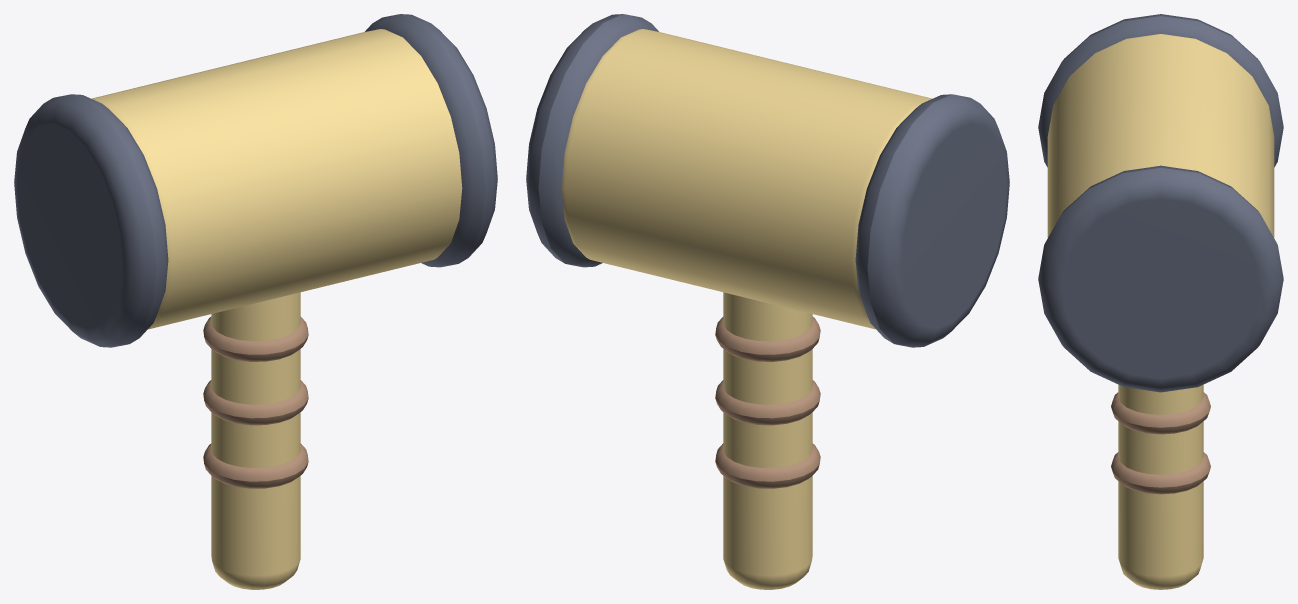
Rendered from GoldenGavel.fbx.
3 views of the same model, side by side, from view 1: azimuth 30°, elevation 25°; view 2: azimuth 150°, elevation 25°; view 3: azimuth 270°, elevation 25° (orthographic). The views are drawn at different scales.
Parts seen in each view (by area): view 1: Ceremonial head, Velvet black band, Ceremonial handle, Velvet black band.001, Grip ring.001, Grip ring, Grip ring.002; view 2: Ceremonial head, Velvet black band, Ceremonial handle, Velvet black band.001, Grip ring.001, Grip ring, Grip ring.002; view 3: Velvet black band.001, Ceremonial head, Ceremonial handle, Velvet black band, Grip ring, Grip ring.001.
Part boxes in pixels (x1=…): Ceremonial head: x1=92, y1=29, x2=462, y2=329; Velvet black band: x1=14, y1=94, x2=168, y2=347; Ceremonial handle: x1=211, y1=292, x2=300, y2=589; Velvet black band.001: x1=365, y1=14, x2=497, y2=267; Grip ring.001: x1=203, y1=380, x2=308, y2=425; Grip ring: x1=203, y1=443, x2=308, y2=488; Grip ring.002: x1=203, y1=317, x2=308, y2=361; Ceremonial head: x1=561, y1=29, x2=931, y2=329; Velvet black band: x1=855, y1=94, x2=1009, y2=347; Ceremonial handle: x1=723, y1=292, x2=812, y2=589; Velvet black band.001: x1=526, y1=14, x2=658, y2=267; Grip ring.001: x1=715, y1=380, x2=820, y2=425; Grip ring: x1=715, y1=443, x2=820, y2=488; Grip ring.002: x1=715, y1=317, x2=820, y2=361; Velvet black band.001: x1=1038, y1=165, x2=1283, y2=392; Ceremonial head: x1=1047, y1=34, x2=1274, y2=237; Ceremonial handle: x1=1118, y1=384, x2=1203, y2=589; Velvet black band: x1=1038, y1=14, x2=1283, y2=167; Grip ring: x1=1111, y1=452, x2=1210, y2=494; Grip ring.001: x1=1111, y1=392, x2=1210, y2=434.
Size of the model in its own units: 43 by 26 by 57.
